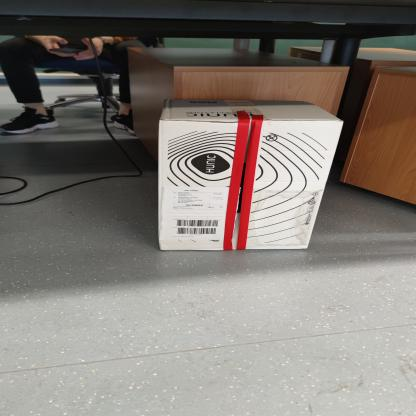box: (96, 82, 398, 268)
